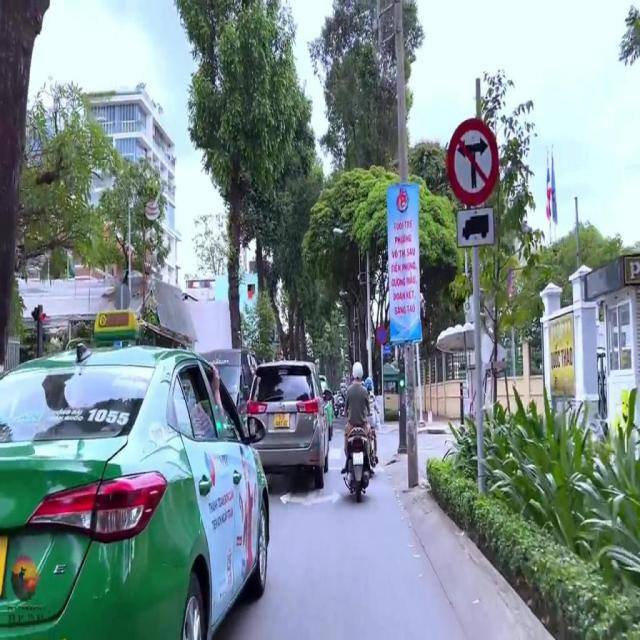cam_dung_xe_va_do_xe: (376, 326, 387, 344)
cam_re_trai_va_phai: (448, 117, 499, 206)
khac: (457, 209, 494, 246)
